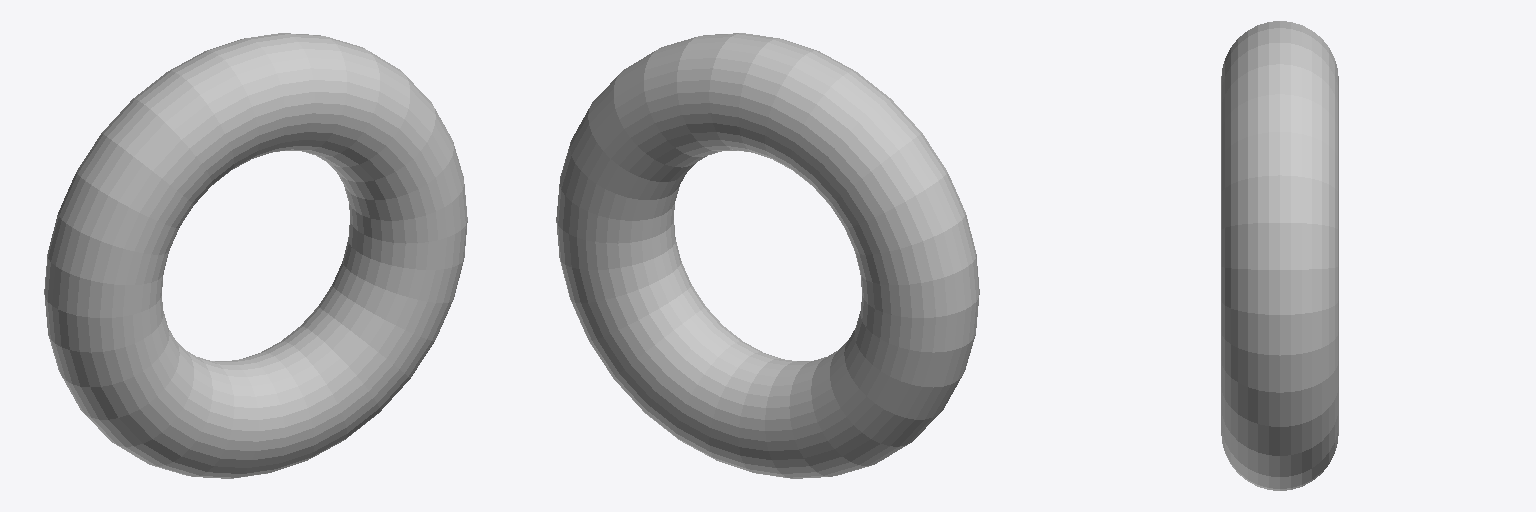
The model's file is donut.obj.
3 renders of one model, left to right at view 1: azimuth 30°, elevation 25°; view 2: azimuth 150°, elevation 25°; view 3: azimuth 270°, elevation 25°, orthographic.
Visible parts, largest first — view 1: SurfTorus; view 2: SurfTorus; view 3: SurfTorus.
Part boxes in pixels (x1,y1,x2,y2): SurfTorus: (44,33,467,478); SurfTorus: (556,33,979,478); SurfTorus: (1221,21,1338,490).
Bounding box in the file's own units: 2 × 2 × 0.5.